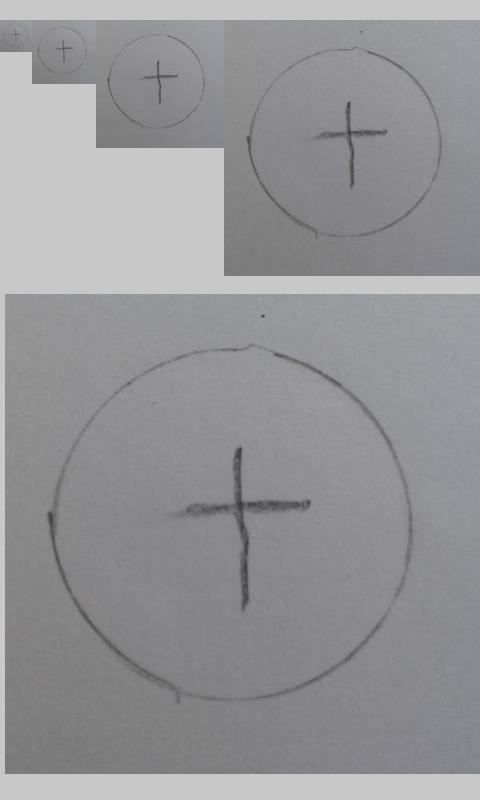button: (46, 340, 418, 707), (246, 45, 445, 240), (106, 32, 206, 131), (37, 26, 88, 76), (3, 23, 29, 48)
